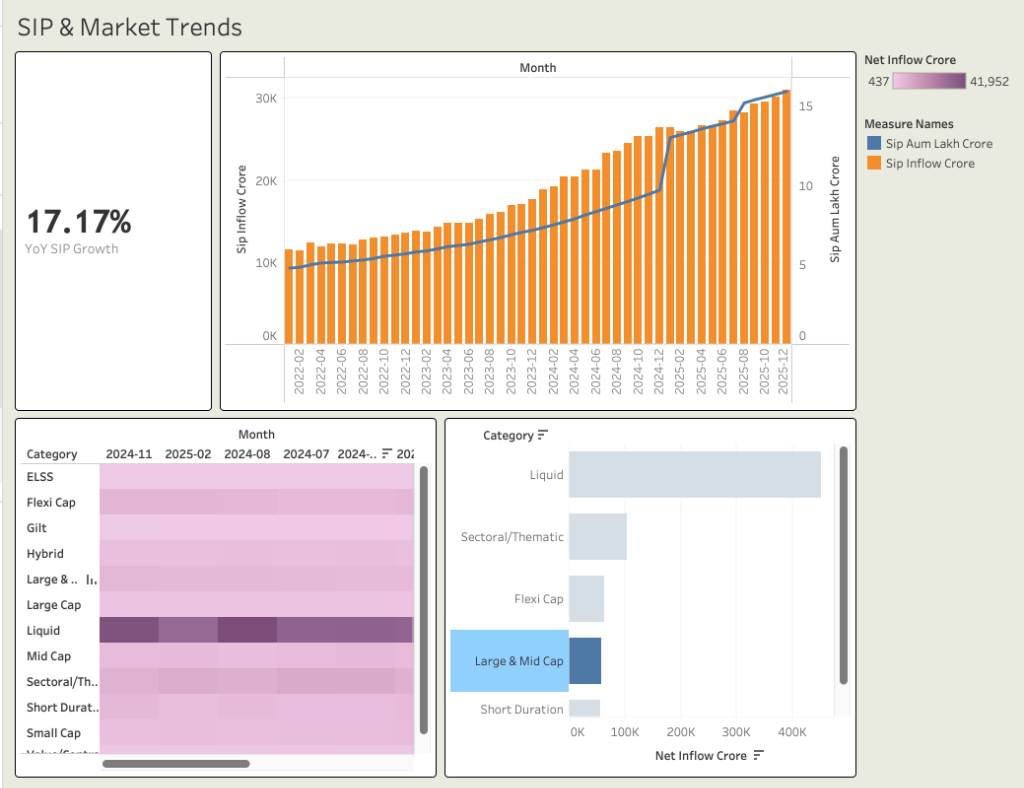

The dashboard page shown, as its layout file describes it:
{"tool":"tableau","page":{"name":"SIP & Market Trends","canvas":[1000,1000],"units":"permille","ordinal":4},"visuals":[{"type":"title","box":[7.7,10,830.4,52.3]},{"type":"legend","title":"Category Inflows Heatmap","param":"[federated.1ld4xr409s8c0t1fgfteu0oakbky].[sum:net_inflow_crore:qk]","box":[838.1,10,154.1,80.9]},{"type":"worksheet","title":"KPI YoY Growth","mark":"Automatic","box":[7.7,62.3,200.4,463.9]},{"type":"worksheet","title":"SIP and AUM Trend","mark":"Bar","rows":["sip_inflow_crore","sip_aum_lakh_crore"],"cols":["month"],"box":[208.1,62.3,629.7,463.9]},{"type":"legend","title":"SIP and AUM Trend","param":"[federated.04e4wof04ipv600zxu5yr0zoxtm3].[:Measure Names]","box":[838.1,90.9,154.1,82.2]},{"type":"worksheet","title":"Category Inflows Heatmap","mark":"Square","rows":["category"],"cols":["month"],"box":[7.7,526.1,420,463.9]},{"type":"worksheet","title":"Top 5 Categories FY25","mark":"Automatic","rows":["category"],"cols":["net_inflow_crore"],"box":[427.8,526.1,410.4,463.9]}]}

Visuals, with their boxes on the dashboard's canvas, which has no fixed pixel size, in thousandths of its width and height (x1, y1, x2, y2). These are canvas units, not pixel positions in the 1024x788 screenshot, which may show the page scaled, cropped or inside an application window:
title: box(8, 10, 838, 62)
"Category Inflows Heatmap" legend: box(838, 10, 992, 91)
"KPI YoY Growth" worksheet: box(8, 62, 208, 526)
"SIP and AUM Trend" worksheet (Bar marks): box(208, 62, 838, 526)
"SIP and AUM Trend" legend: box(838, 91, 992, 173)
"Category Inflows Heatmap" worksheet (Square marks): box(8, 526, 428, 990)
"Top 5 Categories FY25" worksheet: box(428, 526, 838, 990)
